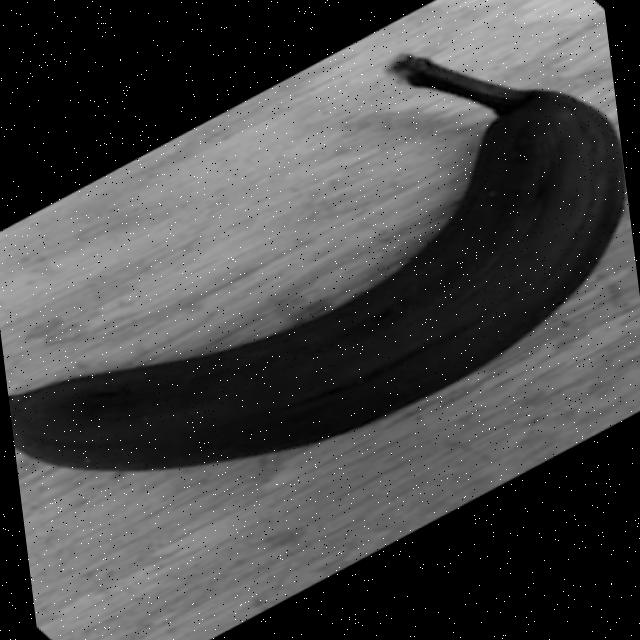Rotten: (0, 32, 640, 489)
